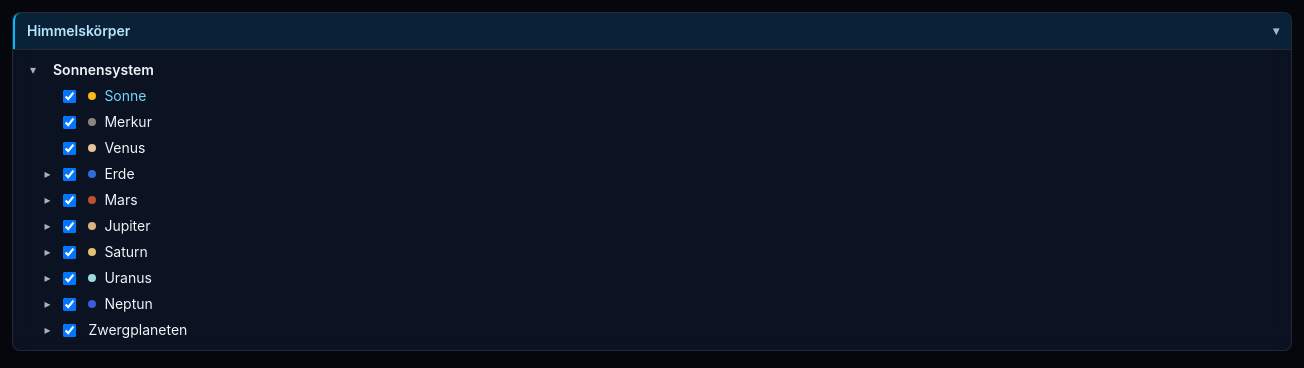
Test: BodyTree › klappt die Wurzel zu
Click the button named "Sonnensystem einklappen" at point(33, 70), box [25, 62, 41, 78]
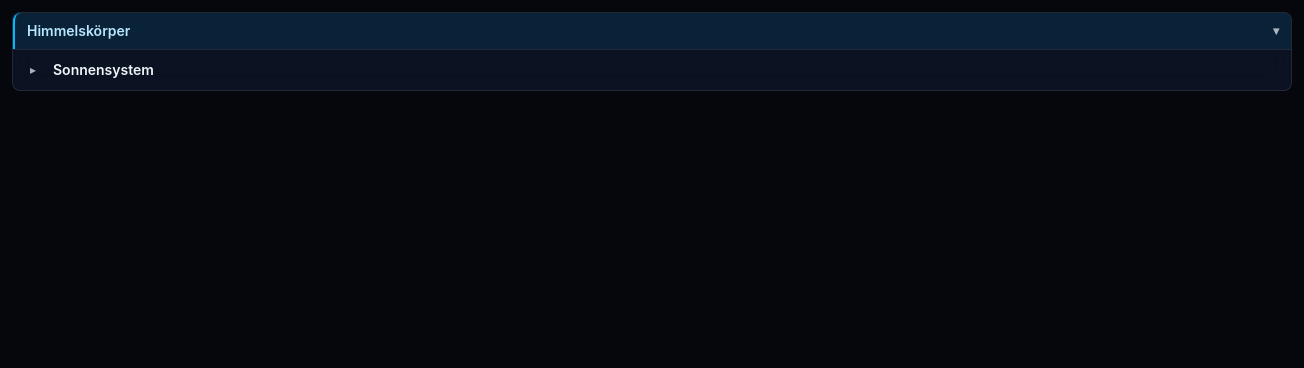
Check: the button "Sonnensystem" is shown, box [49, 58, 158, 82]
Check: the button "Merkur" is gone
